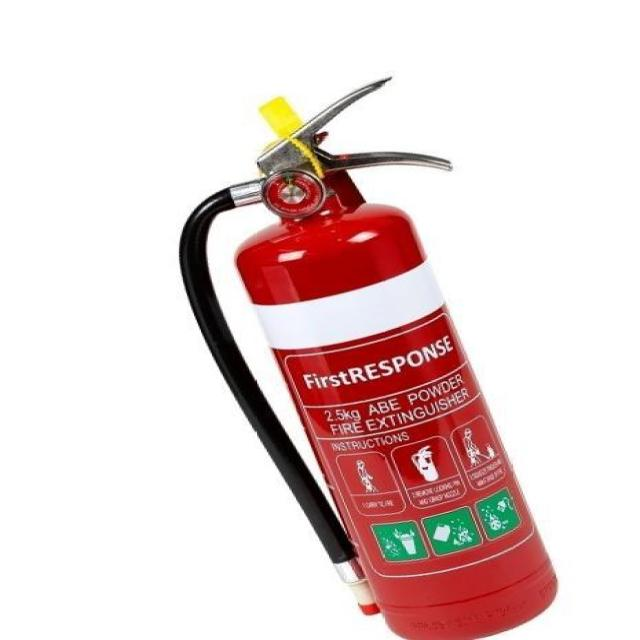fire_extinguisher: (166, 70, 568, 639)
